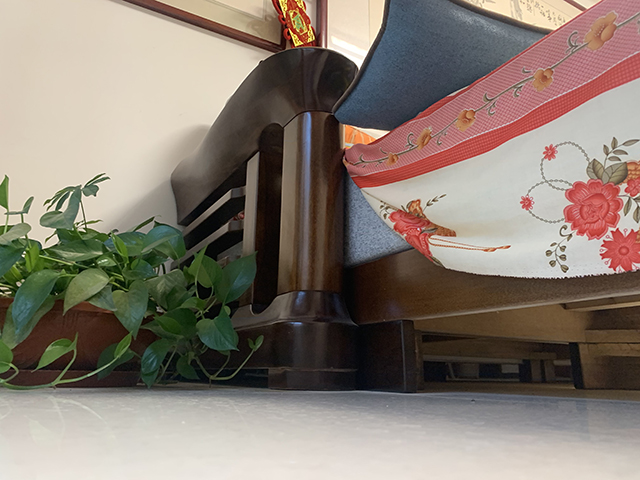sofa: (169, 1, 639, 396)
